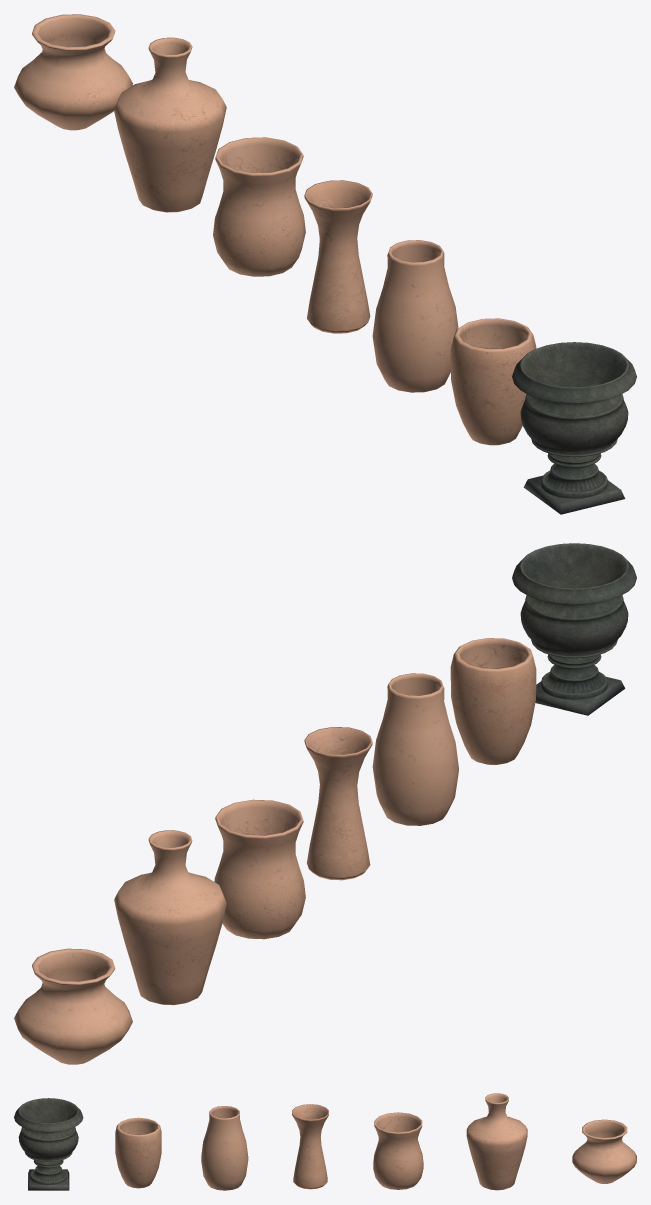
File: Vases.fbx
3 views of the same model, one above another, from view 1: azimuth 30°, elevation 25°; view 2: azimuth 150°, elevation 25°; view 3: azimuth 270°, elevation 25° (orthographic). The views are drawn at different scales.
Visible parts, largest first — view 1: Jar, pot5, pot4, pot2, pot6, pot1, pot3; view 2: Jar, pot5, pot4, pot2, pot6, pot1, pot3; view 3: Jar, pot5, pot4, pot2, pot6, pot1, pot3.
Boxes of the visible parts, bbox=[...] form: Jar: bbox=[512, 342, 636, 514]; pot5: bbox=[114, 37, 226, 212]; pot4: bbox=[213, 137, 305, 276]; pot2: bbox=[372, 240, 458, 392]; pot6: bbox=[14, 14, 132, 130]; pot1: bbox=[450, 318, 536, 445]; pot3: bbox=[304, 180, 372, 333]; Jar: bbox=[512, 543, 636, 715]; pot5: bbox=[114, 830, 226, 1005]; pot4: bbox=[214, 799, 305, 939]; pot2: bbox=[372, 673, 458, 825]; pot6: bbox=[14, 948, 132, 1064]; pot1: bbox=[450, 638, 536, 764]; pot3: bbox=[304, 727, 372, 880]; Jar: bbox=[14, 1098, 83, 1190]; pot5: bbox=[466, 1093, 527, 1190]; pot4: bbox=[373, 1112, 423, 1189]; pot2: bbox=[201, 1106, 248, 1190]; pot6: bbox=[572, 1119, 636, 1183]; pot1: bbox=[115, 1117, 161, 1188]; pot3: bbox=[292, 1104, 328, 1189].
Size of the model in its own units: 54.53 by 75.24 by 490.
